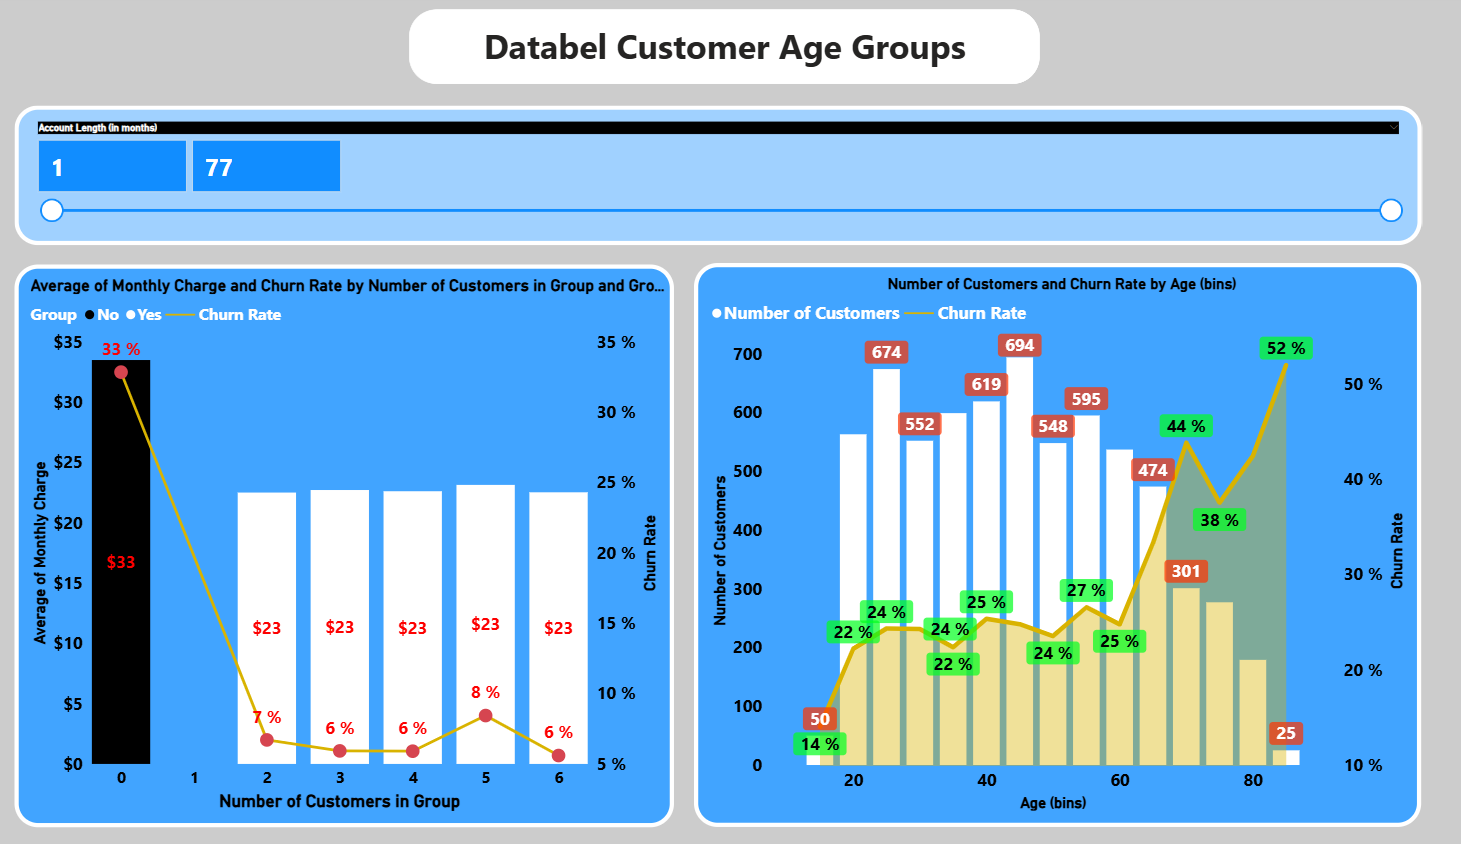

The dashboard page shown, as its layout file describes it:
{"tool":"powerbi","page":{"name":"Age Groups","canvas":[1640,960],"ordinal":1},"visuals":[{"type":"textbox","box":[472,18,694,82],"z":7000},{"type":"slicer","fields":{"Values":["Databel - Data.Account Length (in months)"]},"box":[34,124,1552,154],"z":8000},{"type":"lineStackedColumnComboChart","fields":{"Category":["Databel - Data.Number of Customers in Group"],"Y":["Avg(Databel - Data.Monthly Charge)"],"Series":["Databel - Data.Group"],"Y2":["Databel - Data.Churn Rate"]},"box":[34.9,298.8,727.5,620.8],"z":9000},{"type":"lineStackedColumnComboChart","fields":{"Category":["Databel - Data.Age (bins)"],"Y":["Databel - Data.Number of costumers"],"Y2":["Databel - Data.Churn Rate"]},"box":[784,298,802,622],"z":10000},{"type":"textbox","box":[470,18.3,695,81.7],"z":11000}]}

Visuals, with their boxes in screenshot pixels (x1, y1, x2, y2), scaled from the page's 1640x960 canvas onto the 1461x844 screenshot:
textbox: bbox(420, 16, 1039, 88)
slicer - Databel - Data.Account Length (in months): bbox(30, 109, 1413, 244)
lineStackedColumnComboChart - Databel - Data.Number of Customers in Group x Avg(Databel - Data.Monthly Charge): bbox(31, 263, 679, 808)
lineStackedColumnComboChart - Databel - Data.Age (bins) x Databel - Data.Number of costumers: bbox(698, 262, 1413, 809)
textbox: bbox(419, 16, 1038, 88)
